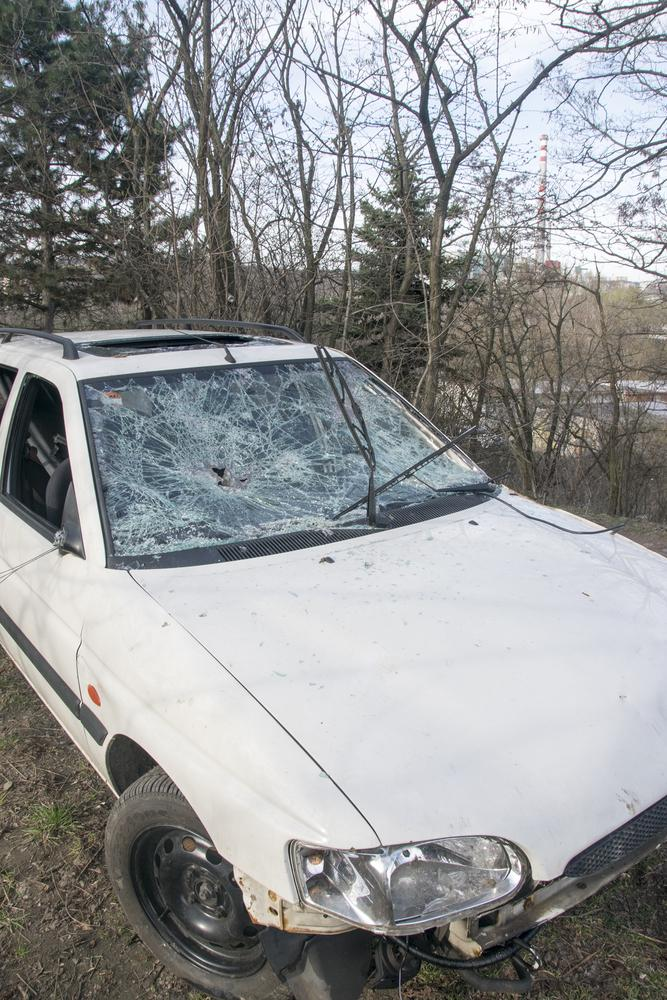crack: (75, 619, 84, 702)
glass shatter: (86, 360, 488, 557)
